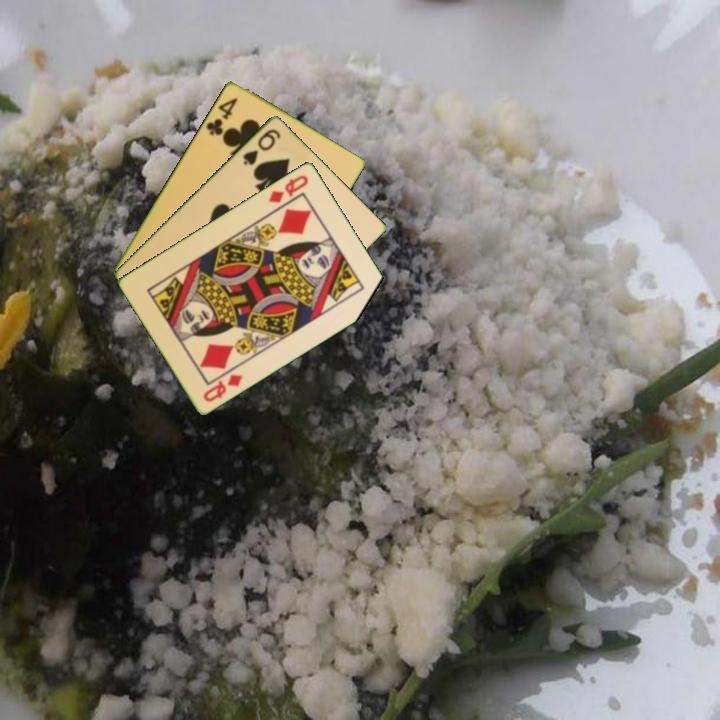4c: (202, 93, 241, 138)
6s: (239, 125, 283, 168)
Qd: (265, 171, 312, 205), (199, 370, 246, 404)
